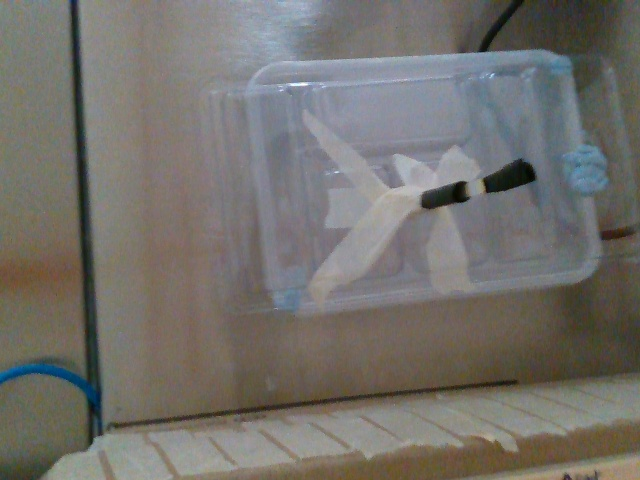test_strip: (463, 157, 533, 200)
